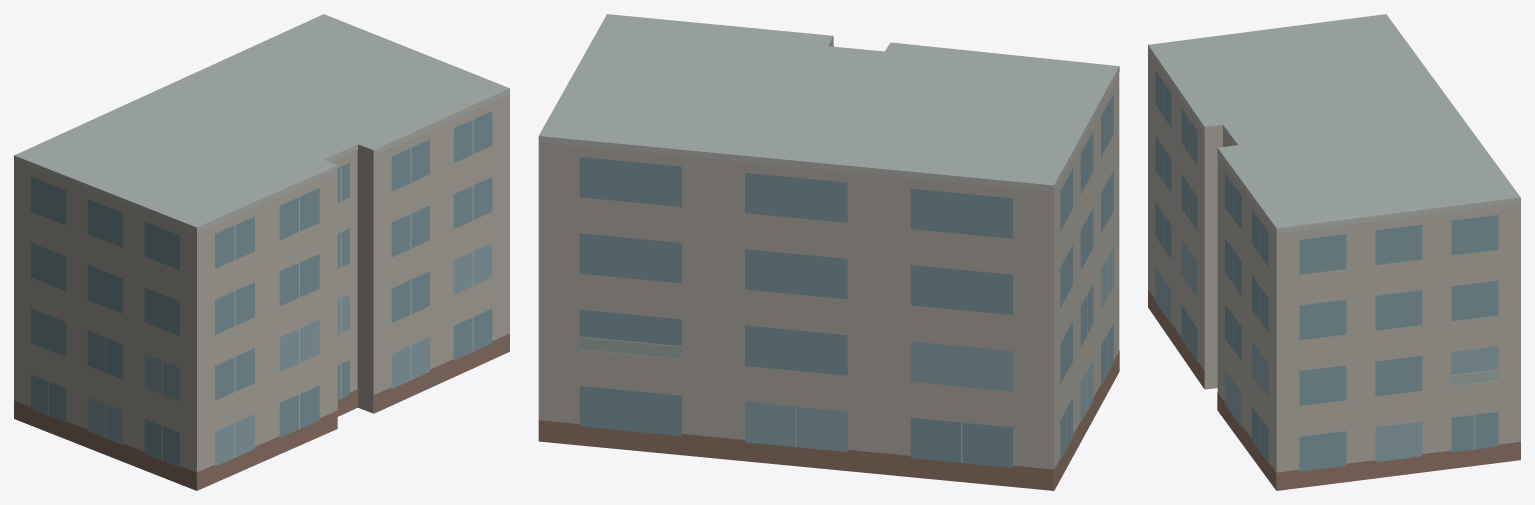
Rendered from survey-upis-32948350.glb.
The picture shows the model from 3 angles, left to right: view 1: azimuth 30°, elevation 25°; view 2: azimuth 150°, elevation 25°; view 3: azimuth 270°, elevation 25°; orthographic projection. The views are drawn at different scales.
Parts seen in each view (by area): view 1: survey-upis-32948350.tmp; view 2: survey-upis-32948350.tmp; view 3: survey-upis-32948350.tmp.
Boxes of the visible parts, left/top/right/bottom form: survey-upis-32948350.tmp: left=14, top=14, right=509, bottom=490; survey-upis-32948350.tmp: left=538, top=14, right=1119, bottom=490; survey-upis-32948350.tmp: left=1148, top=14, right=1520, bottom=490.
Size of the model in its own units: 21.02 by 12 by 15.45.
